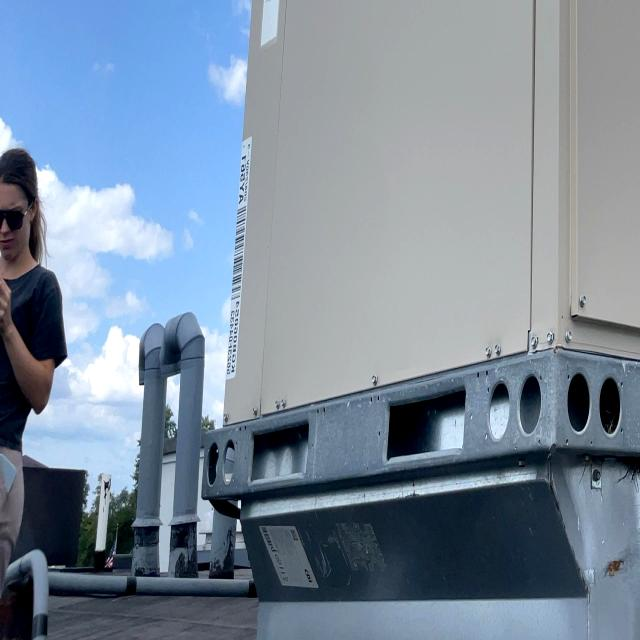GRAVITY-VENT: (160, 307, 206, 571), (133, 325, 167, 571)
RTU: (202, 0, 640, 627)
